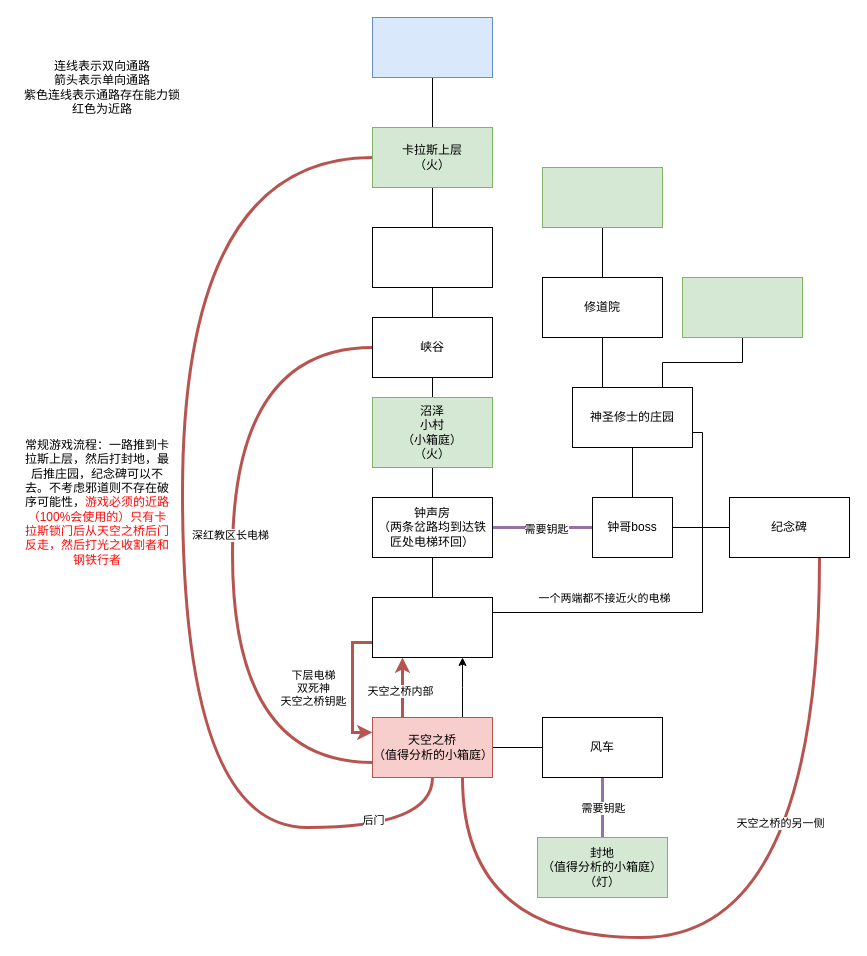
This 867x956 diagram has some shape labels left out. The centre of each missing label's shape, as x and y in pixels:
卡拉斯下层 矿洞: point 432,257
城堡: point 432,47
忏悔之塔 （火）: point 742,307
至高天 （火）: point 602,197
避难所: point 432,627
